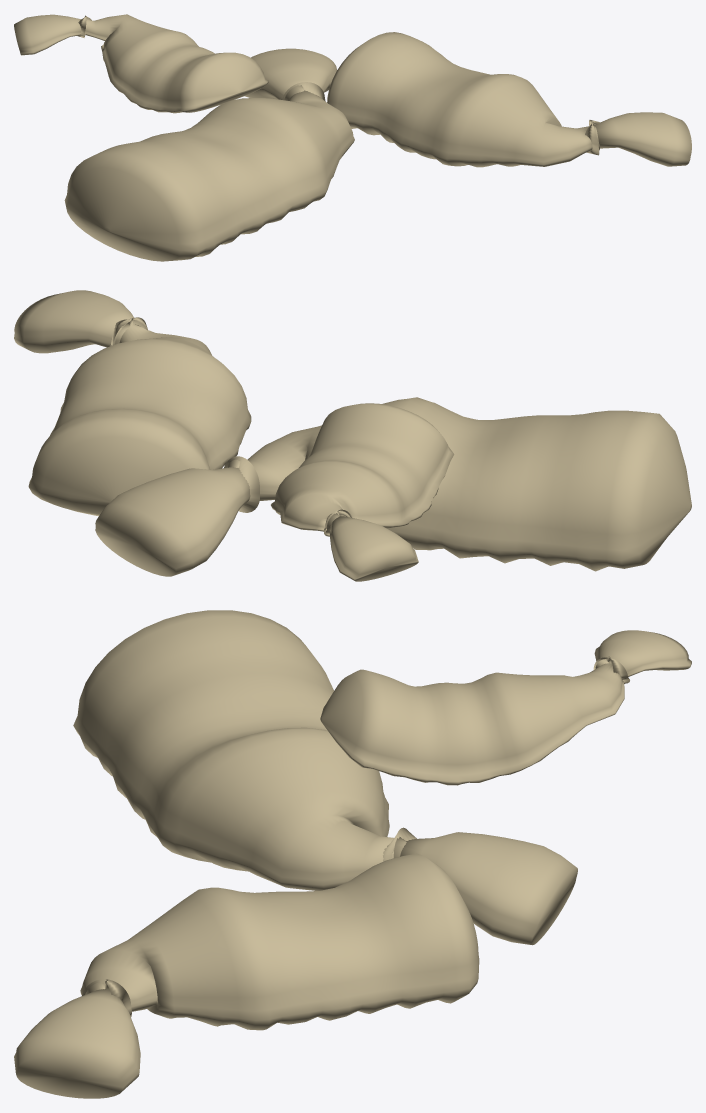
The model's file is sacks.glb.
3 views of the same model, one above another, from view 1: azimuth 30°, elevation 25°; view 2: azimuth 150°, elevation 25°; view 3: azimuth 270°, elevation 25° (orthographic). The views are drawn at different scales.
Parts seen in each view (by area): view 1: sacks; view 2: sacks; view 3: sacks.
Part boxes in pixels (<box>): sacks: <box>14,14,691,261</box>; sacks: <box>14,290,691,581</box>; sacks: <box>14,610,691,1098</box>.
Bounding box in the file's own units: 1.38 × 0.2896 × 1.02.
